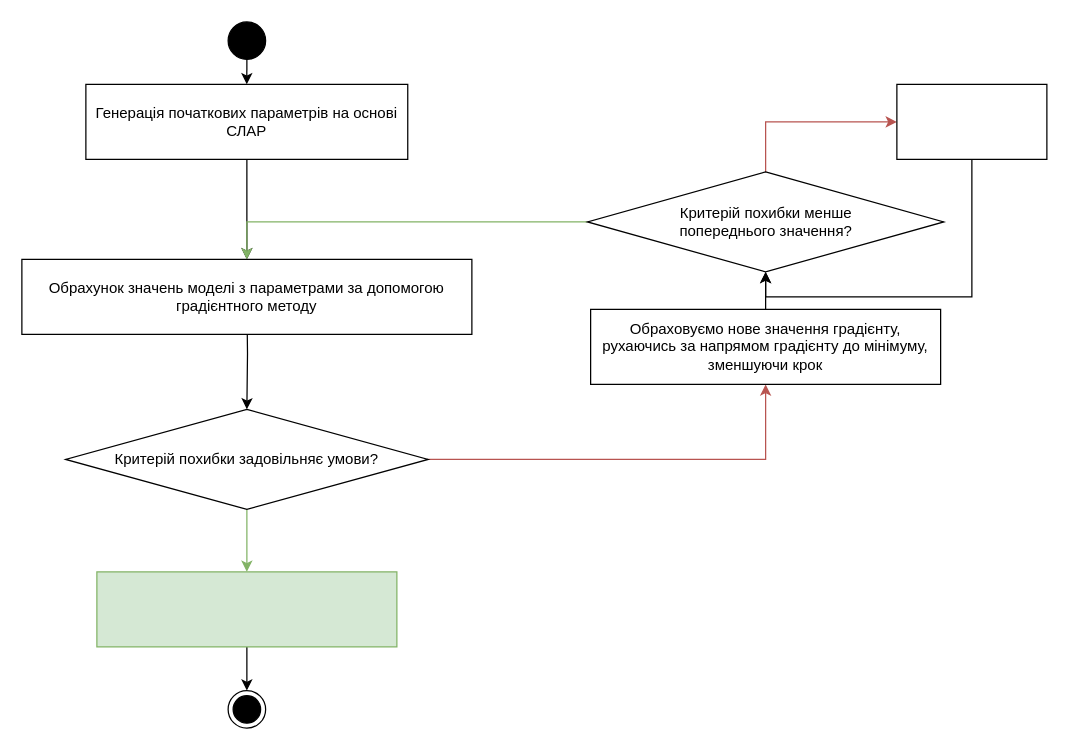
The diagram is 1069 pixels wide and 750 high, and some of its shapes have lost their labels. Each missing label, with the box of its shape:
Виведення оптимізованих значень параметрів моделі: (96, 571, 397, 647)
Повертаємось до попереднього значення, зменшуючи крок: (896, 83, 1047, 159)
